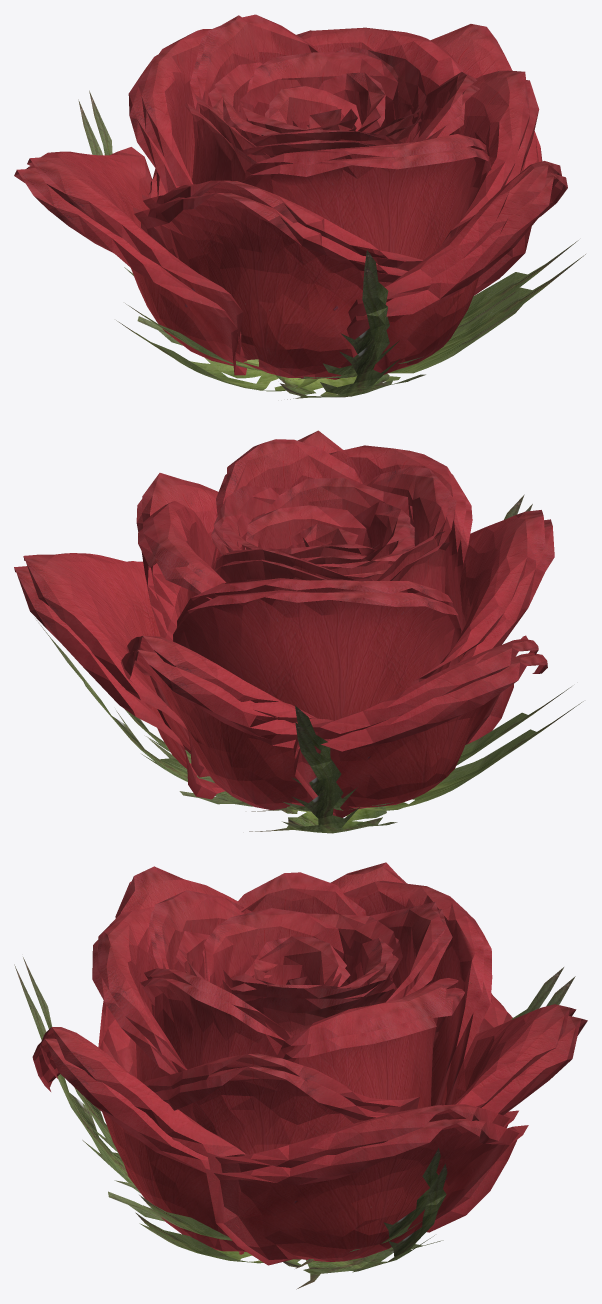
The model's file is roseBlossomAnimation.fbx.
3 views of the same model, one above another, from view 1: azimuth 30°, elevation 25°; view 2: azimuth 150°, elevation 25°; view 3: azimuth 270°, elevation 25° (orthographic). The views are drawn at different scales.
Visible parts, largest first — view 1: Rose_Petal05; view 2: Rose_Petal05; view 3: Rose_Petal05.
Part boxes in pixels (left/top/right/bottom): Rose_Petal05: left=14, top=14, right=585, bottom=399; Rose_Petal05: left=14, top=430, right=583, bottom=833; Rose_Petal05: left=14, top=862, right=587, bottom=1289.
Size of the model in its own units: 7.35 by 4.19 by 6.84.
Materials: 1 (1 with a texture image).
